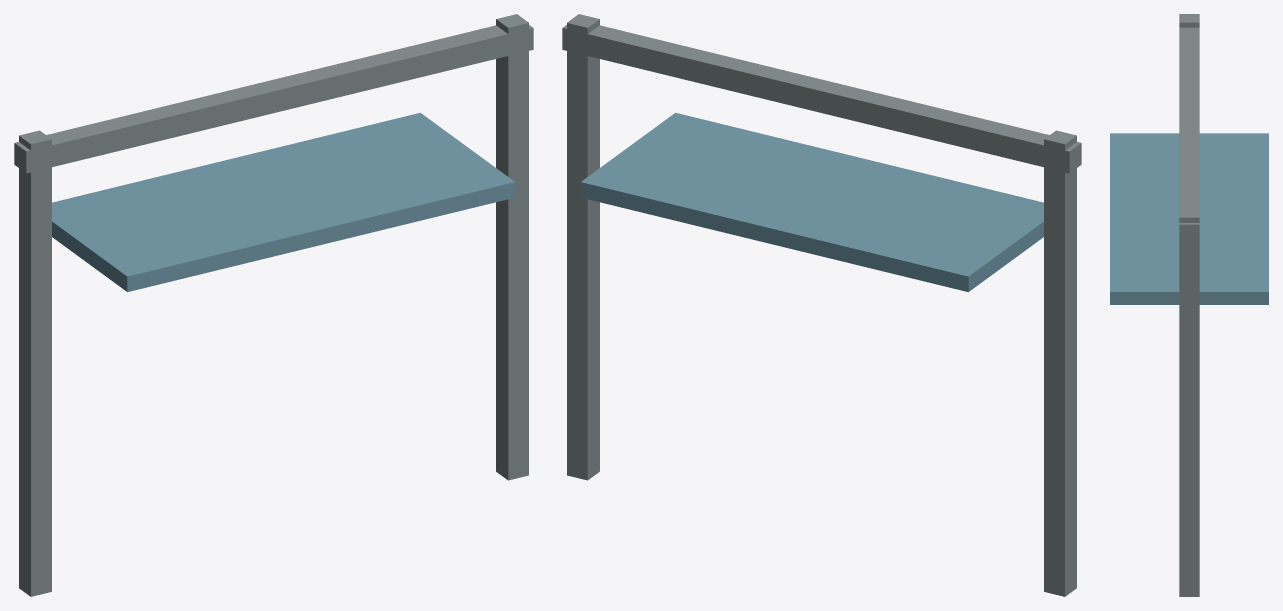
The model's file is PRP_HOUSE_003_laundry_rack.glb.
3 views of the same model, side by side, from view 1: azimuth 30°, elevation 25°; view 2: azimuth 150°, elevation 25°; view 3: azimuth 270°, elevation 25° (orthographic). The views are drawn at different scales.
Visible parts, largest first — view 1: Part_22, Part_13, Part_01, Part_07, Part_19, Part_16, Part_08, Part_02, Part_20; view 2: Part_22, Part_12, Part_06, Part_00, Part_18, Part_16, Part_08, Part_02, Part_20; view 3: Part_22, Part_09, Part_16, Part_21, Part_15.
Part boxes in pixels (left/top/right/bottom): Part_22: left=52, top=112, right=514, bottom=276; Part_13: left=26, top=28, right=533, bottom=173; Part_01: left=31, top=139, right=51, bottom=596; Part_07: left=508, top=23, right=528, bottom=480; Part_19: left=127, top=182, right=515, bottom=292; Part_16: left=15, top=25, right=532, bottom=151; Part_08: left=496, top=19, right=508, bottom=480; Part_02: left=19, top=136, right=30, bottom=596; Part_20: left=52, top=221, right=127, bottom=291; Part_22: left=581, top=112, right=1043, bottom=276; Part_12: left=562, top=28, right=1069, bottom=173; Part_06: left=567, top=23, right=587, bottom=480; Part_00: left=1044, top=139, right=1064, bottom=596; Part_18: left=580, top=182, right=968, bottom=292; Part_16: left=563, top=25, right=1080, bottom=151; Part_08: left=587, top=19, right=599, bottom=480; Part_02: left=1065, top=136, right=1076, bottom=596; Part_20: left=968, top=221, right=1043, bottom=291; Part_22: left=1110, top=133, right=1268, bottom=291; Part_09: left=1179, top=217, right=1199, bottom=596; Part_16: left=1179, top=27, right=1199, bottom=224; Part_21: left=1110, top=292, right=1268, bottom=304; Part_15: left=1179, top=224, right=1199, bottom=242.
Bounding box in the file's own units: 1.7 × 1.45 × 0.55.
